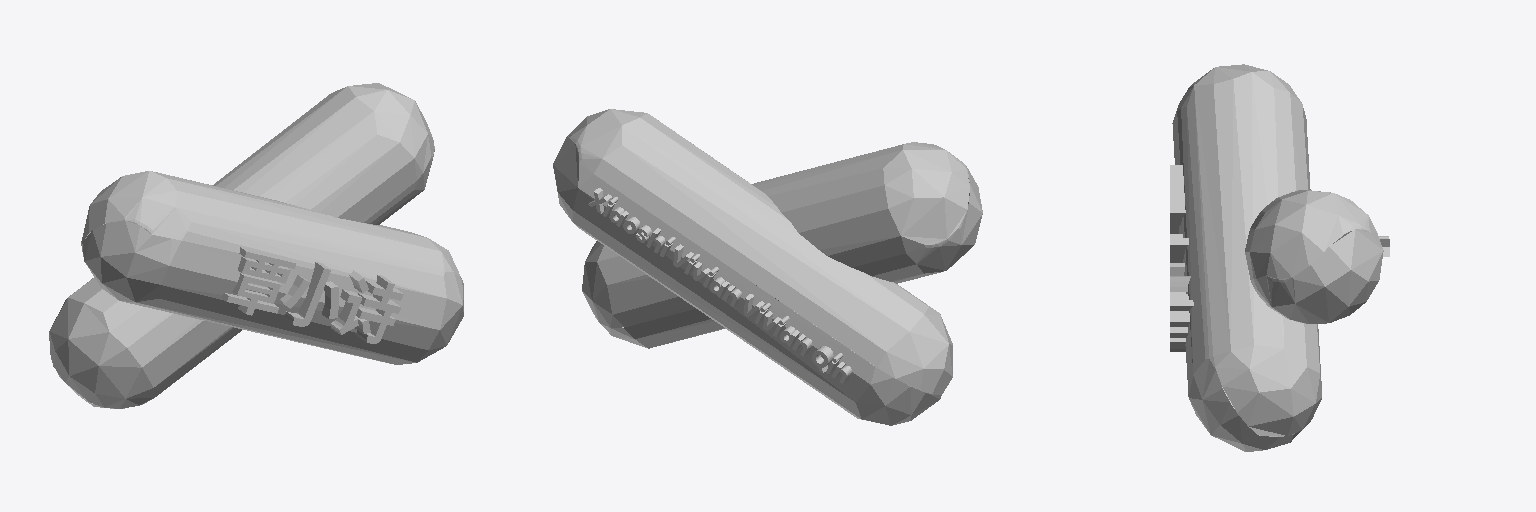
Rendered from XiaoshiVivianQin.obj.
3 views of the same model, side by side, from view 1: azimuth 30°, elevation 25°; view 2: azimuth 150°, elevation 25°; view 3: azimuth 270°, elevation 25° (orthographic).
Visible parts, largest first — view 1: root_3, root_2, node_id757; view 2: root_2, root_3, node_id768; view 3: root_3, root_2, node_id757.
Boxes of the visible parts, x1,y1,x2,y2 form: root_3: [81, 171, 463, 364]; root_2: [49, 83, 434, 408]; node_id757: [221, 247, 403, 343]; root_2: [553, 109, 952, 425]; root_3: [582, 142, 982, 348]; node_id768: [588, 188, 851, 383]; root_3: [1172, 64, 1321, 451]; root_2: [1245, 190, 1383, 323]; node_id757: [1170, 165, 1193, 351].
Bounding box in the file's own units: 0.289 × 0.1836 × 0.1458.